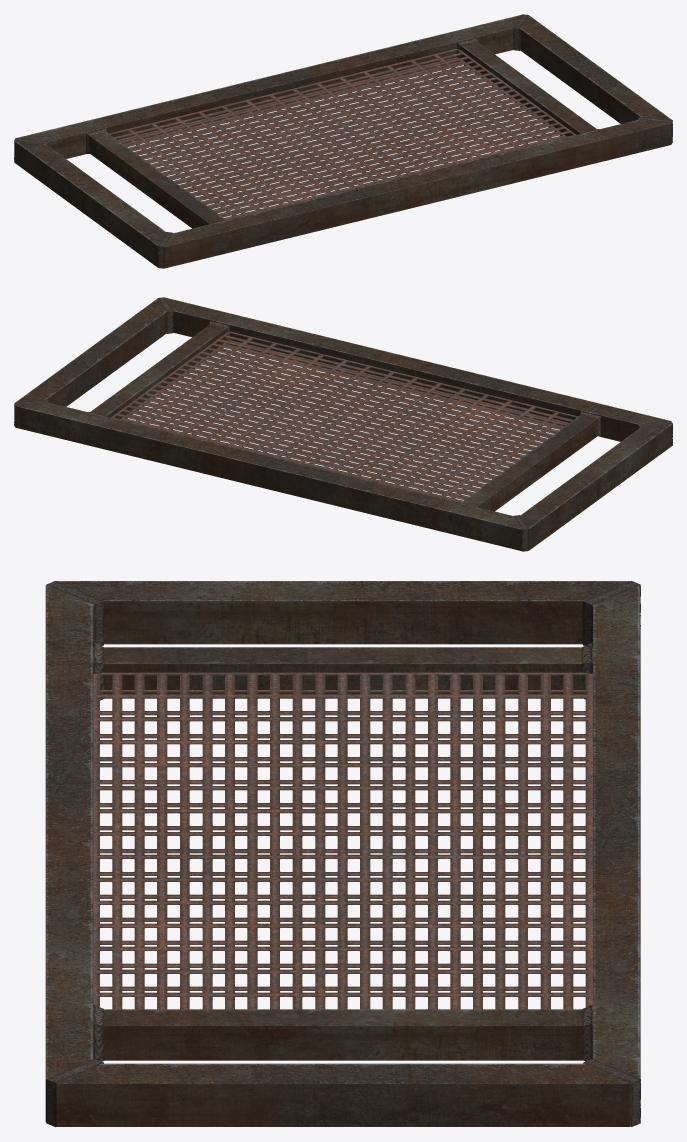
Rendered from SM_Sewer_Cage_Floor_B.fbx.
3 renders of one model, top to bottom at view 1: azimuth 30°, elevation 25°; view 2: azimuth 150°, elevation 25°; view 3: azimuth 270°, elevation 25°, orthographic. The views are drawn at different scales.
Visible parts, largest first — view 1: SM_Sewer_Cage_Floor_B; view 2: SM_Sewer_Cage_Floor_B; view 3: SM_Sewer_Cage_Floor_B.
Boxes of the visible parts, x1=… form: SM_Sewer_Cage_Floor_B: x1=14, y1=14, x2=672, y2=268; SM_Sewer_Cage_Floor_B: x1=14, y1=297, x2=672, y2=551; SM_Sewer_Cage_Floor_B: x1=45, y1=581, x2=640, y2=1127.
Bounding box in the file's own units: 250 × 10.24 × 125.
